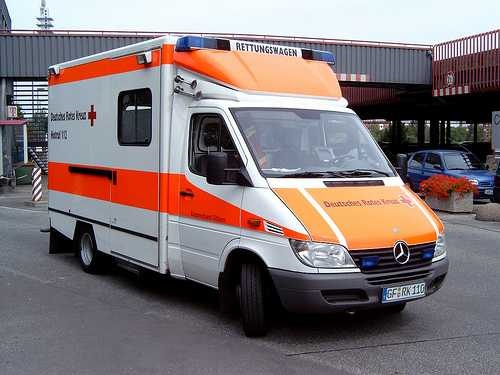Ambulance: (27, 32, 449, 340)
